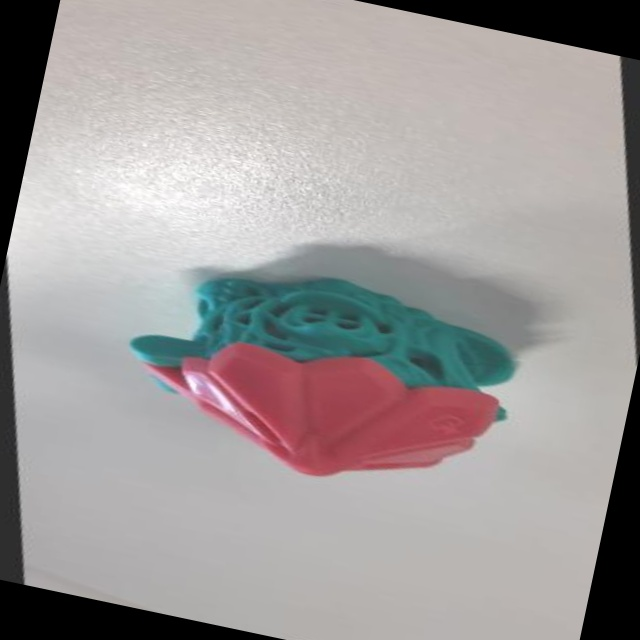House: (62, 217, 582, 549)
